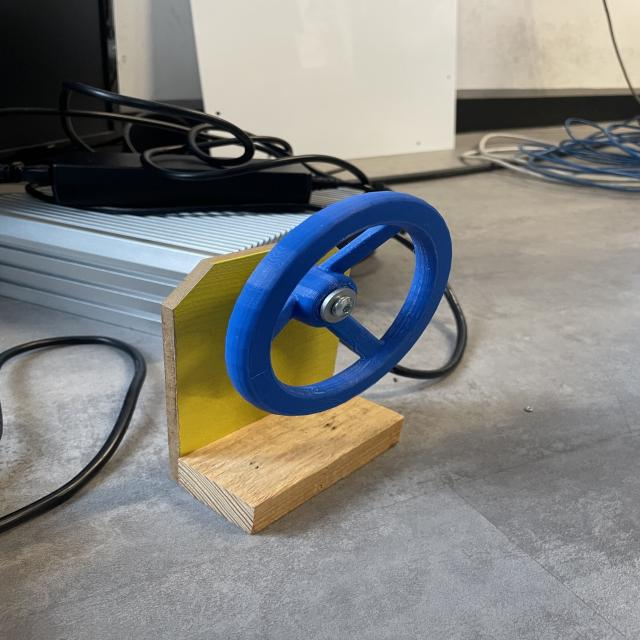Wheel Handle Valve Threaded: (223, 188, 455, 416)
